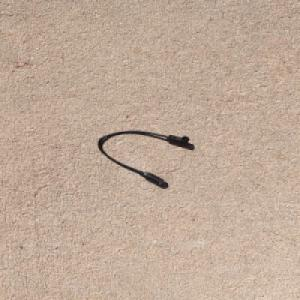Wire: (96, 130, 190, 186)
